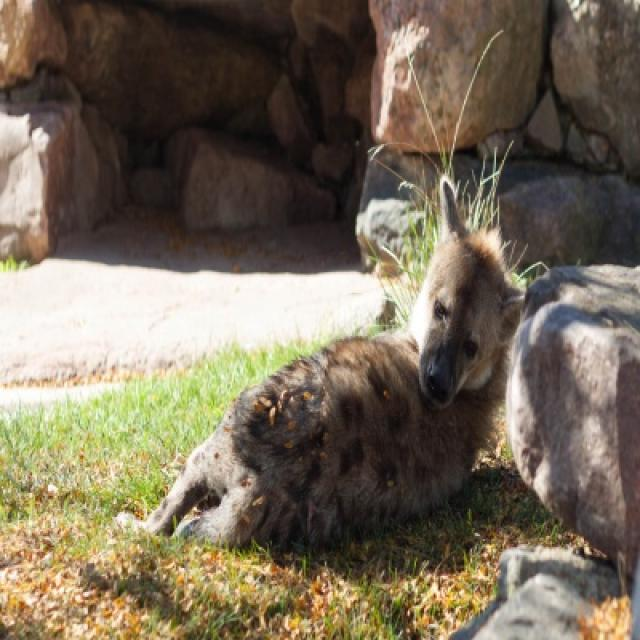hyena: (141, 230, 526, 555)
